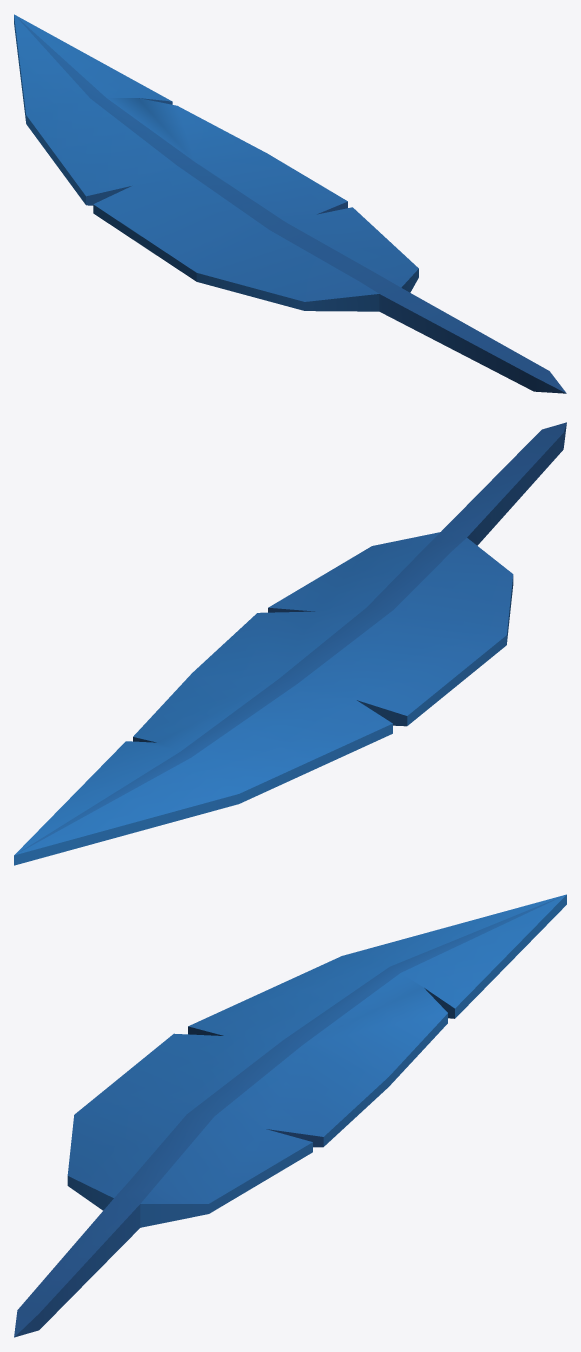
The model's file is Feather4.fbx.
The picture shows the model from 3 angles, top to bottom: view 1: azimuth 30°, elevation 25°; view 2: azimuth 150°, elevation 25°; view 3: azimuth 330°, elevation 25°; orthographic projection. The views are drawn at different scales.
Parts seen in each view (by area): view 1: Feather4; view 2: Feather4; view 3: Feather4.
Part boxes in pixels (x1,y1,x2,y2): Feather4: (14, 14, 566, 393); Feather4: (14, 422, 566, 865); Feather4: (14, 894, 566, 1337).
Size of the model in its own units: 4.97 by 0.7807 by 23.15.
